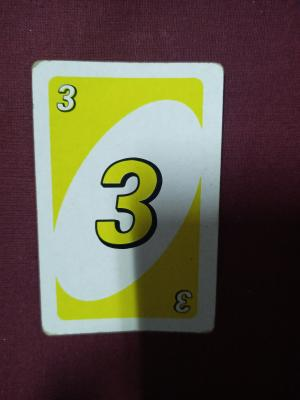num_3: (93, 144, 173, 266)
yellow: (46, 75, 86, 141)
